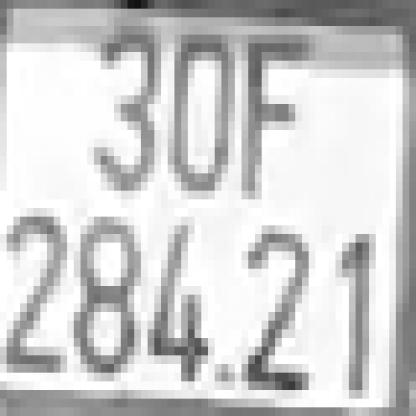0: (175, 35, 228, 199)
1: (336, 225, 382, 390)
2: (235, 217, 302, 381), (7, 208, 67, 364)
3: (94, 34, 161, 190)
4: (148, 216, 208, 372)
8: (74, 208, 141, 373)
F: (241, 35, 302, 199)
